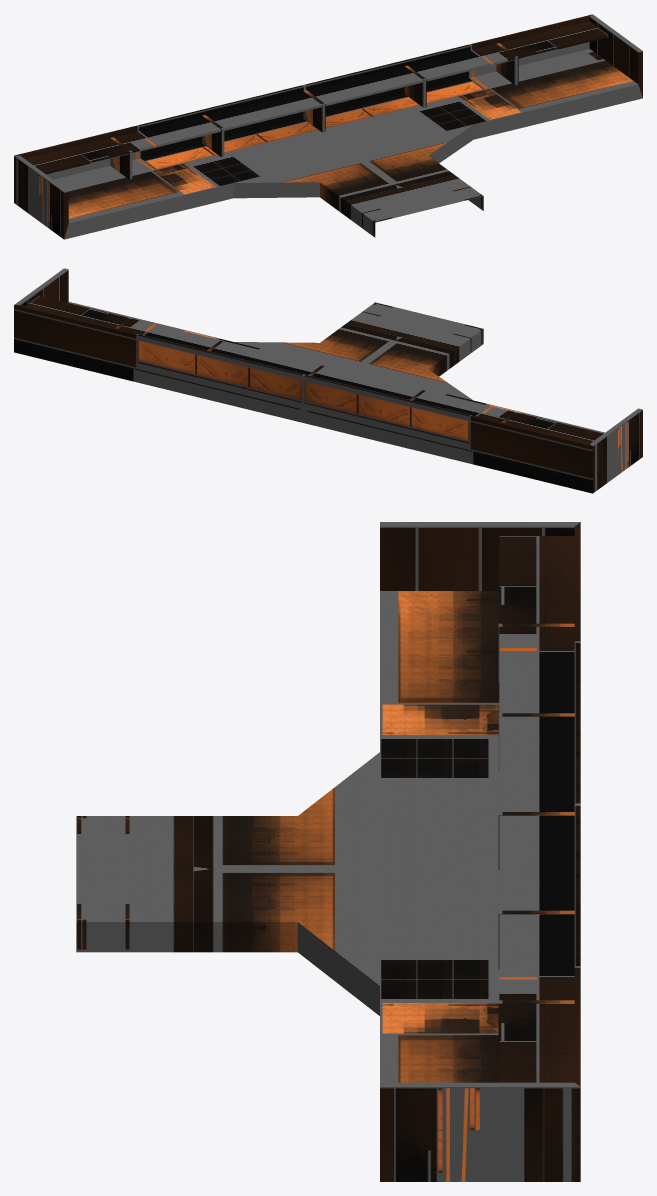
File: Desk_WoodLarge.DAE
3 renders of one model, top to bottom at view 1: azimuth 30°, elevation 25°; view 2: azimuth 150°, elevation 25°; view 3: azimuth 270°, elevation 25°, orthographic. The views are drawn at different scales.
Parts seen in each view (by area): view 1: Desk_WoodLarge; view 2: Desk_WoodLarge; view 3: Desk_WoodLarge.
Part boxes in pixels (<box>): Desk_WoodLarge: <box>14,14,642,239</box>; Desk_WoodLarge: <box>14,268,642,493</box>; Desk_WoodLarge: <box>76,522,580,1181</box>.
Bounding box in the file's own units: 630 × 238 × 49.29.
1 material, 1 textured.
